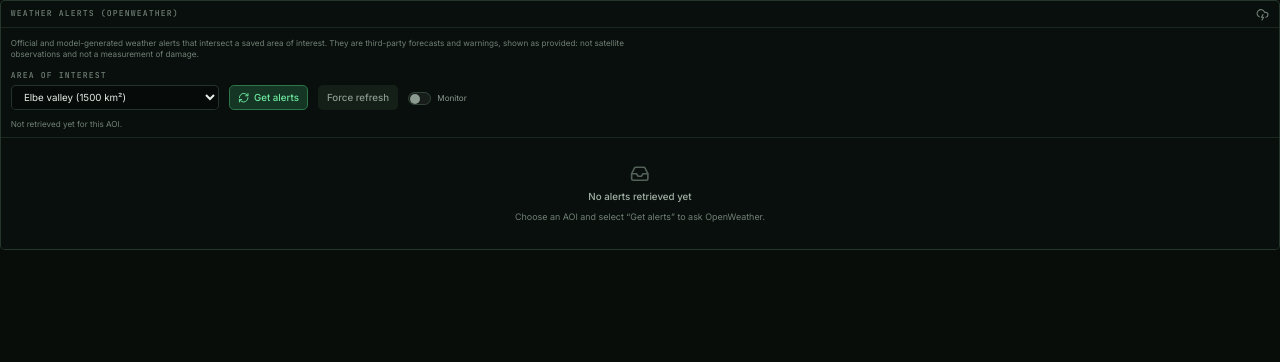
Test case: WeatherAlertsSection › provider errors are shown with a retry, never as an empty list
The width and height of the screenshot is (1280, 362).
Click the button "Get alerts" at (268, 97), box 228,85 -> 308,110
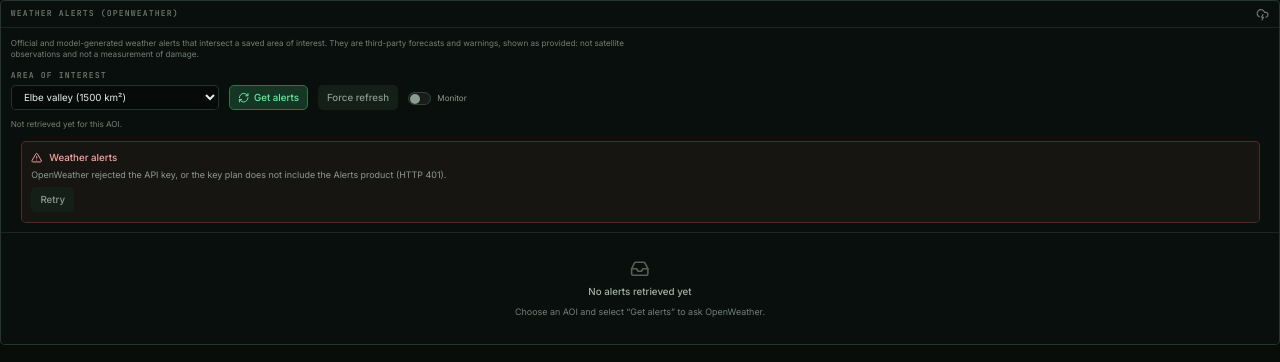
Expected: the message shows "does not include the Alerts product", 31,168 -> 446,180
Expected: the button "Retry" is shown, 31,187 -> 74,212
